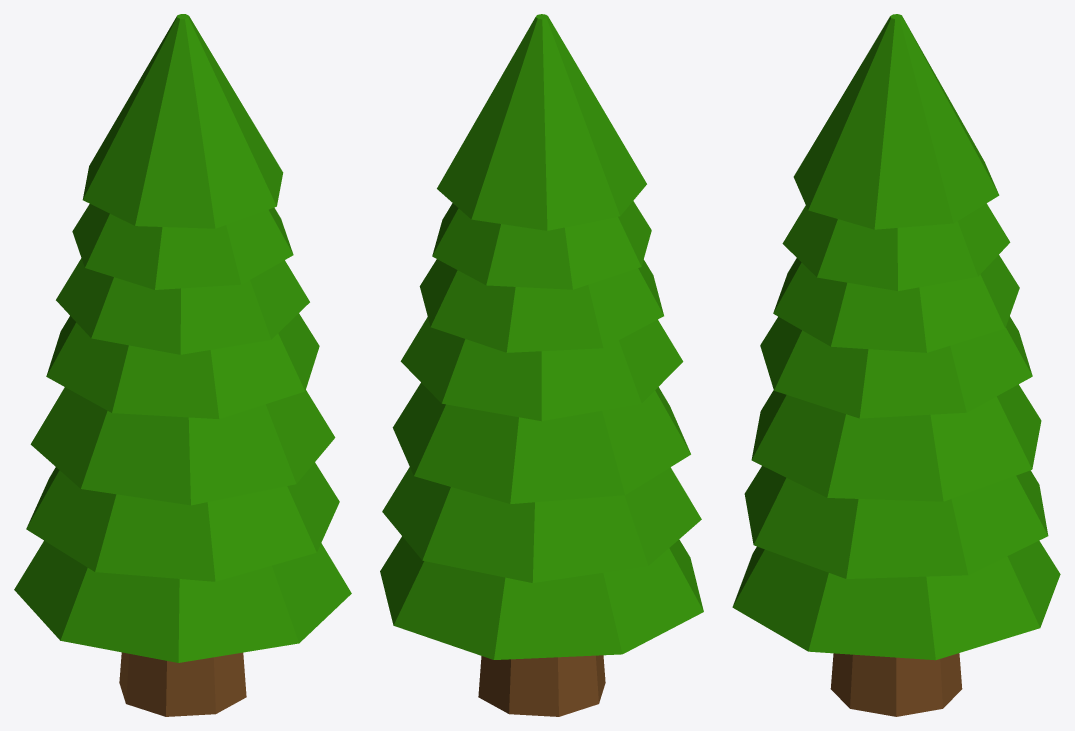
The model's file is TreeLOD1.fbx.
3 views of the same model, side by side, from view 1: azimuth 30°, elevation 25°; view 2: azimuth 150°, elevation 25°; view 3: azimuth 270°, elevation 25° (orthographic).
Parts seen in each view (by area): view 1: Cylinder; view 2: Cylinder; view 3: Cylinder.
Part boxes in pixels (x1,y1,x2,y2): Cylinder: [14, 14, 351, 716]; Cylinder: [380, 14, 703, 716]; Cylinder: [732, 14, 1060, 716].
Size of the model in its own units: 356 by 806 by 356.
